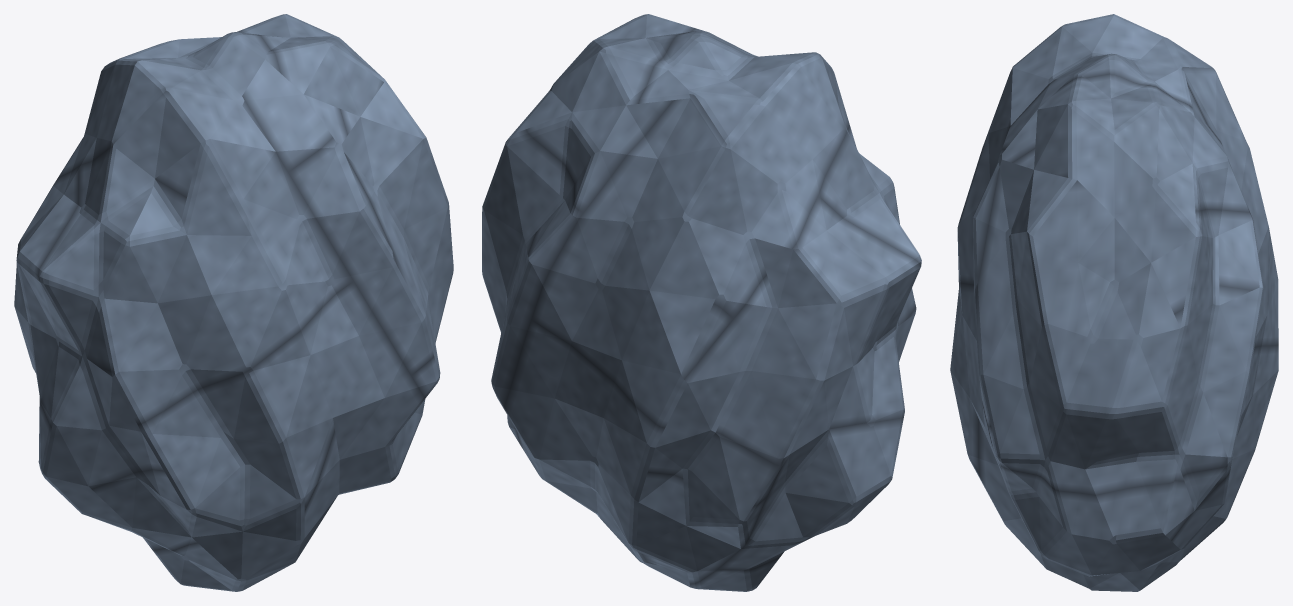
The model's file is cliff-sculpted.glb.
3 views of the same model, side by side, from view 1: azimuth 30°, elevation 25°; view 2: azimuth 150°, elevation 25°; view 3: azimuth 270°, elevation 25° (orthographic). The views are drawn at different scales.
Parts seen in each view (by area): view 1: Sculpted escarpment; view 2: Sculpted escarpment; view 3: Sculpted escarpment.
Boxes of the visible parts, x1,y1,x2,y2 form: Sculpted escarpment: (14, 14, 453, 591); Sculpted escarpment: (482, 14, 921, 591); Sculpted escarpment: (950, 14, 1278, 591).
Bounding box in the file's own units: 2.11 × 2.63 × 1.48.
1 material, 1 textured.
